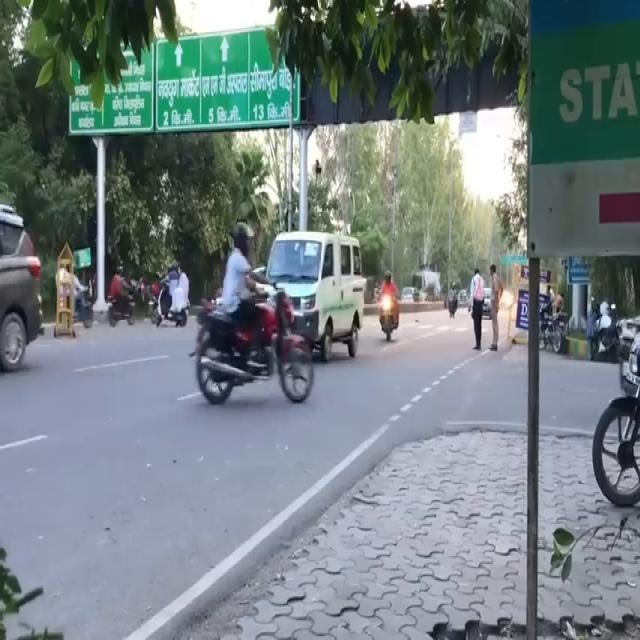MOTORCYCLE: (194, 289, 315, 403), (152, 282, 190, 324), (375, 288, 396, 344), (448, 294, 456, 318)
TRUCK: (260, 228, 358, 354)
